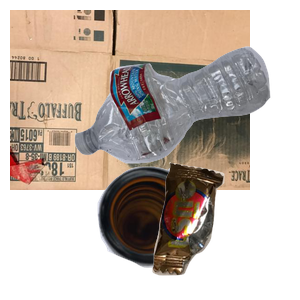cardboard: (10, 10, 250, 190)
glass: (95, 164, 286, 300)
plastic: (72, 44, 300, 200)
trash: (150, 160, 300, 300)
